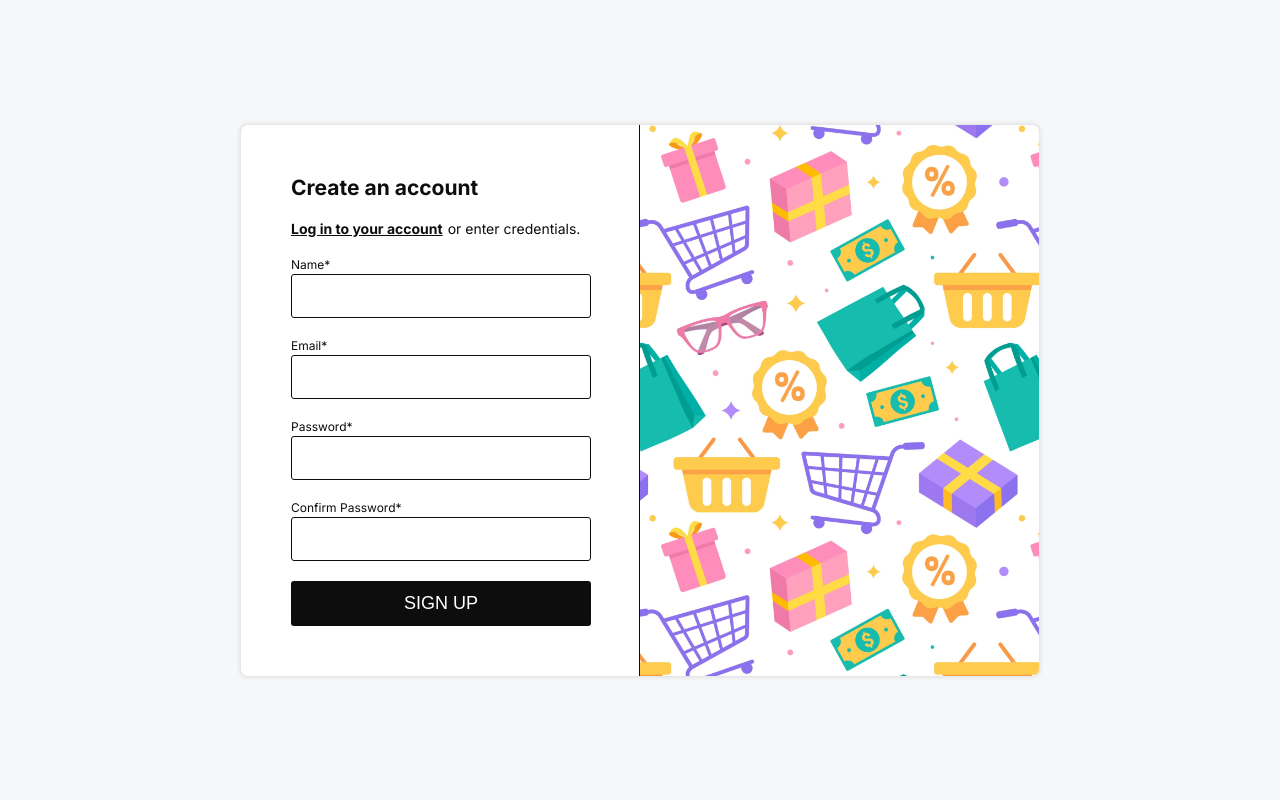
Create account › Checking for a mandatory password match
In the field with test id "input-name": (441, 296) [291,274,591,318], type "TestName"
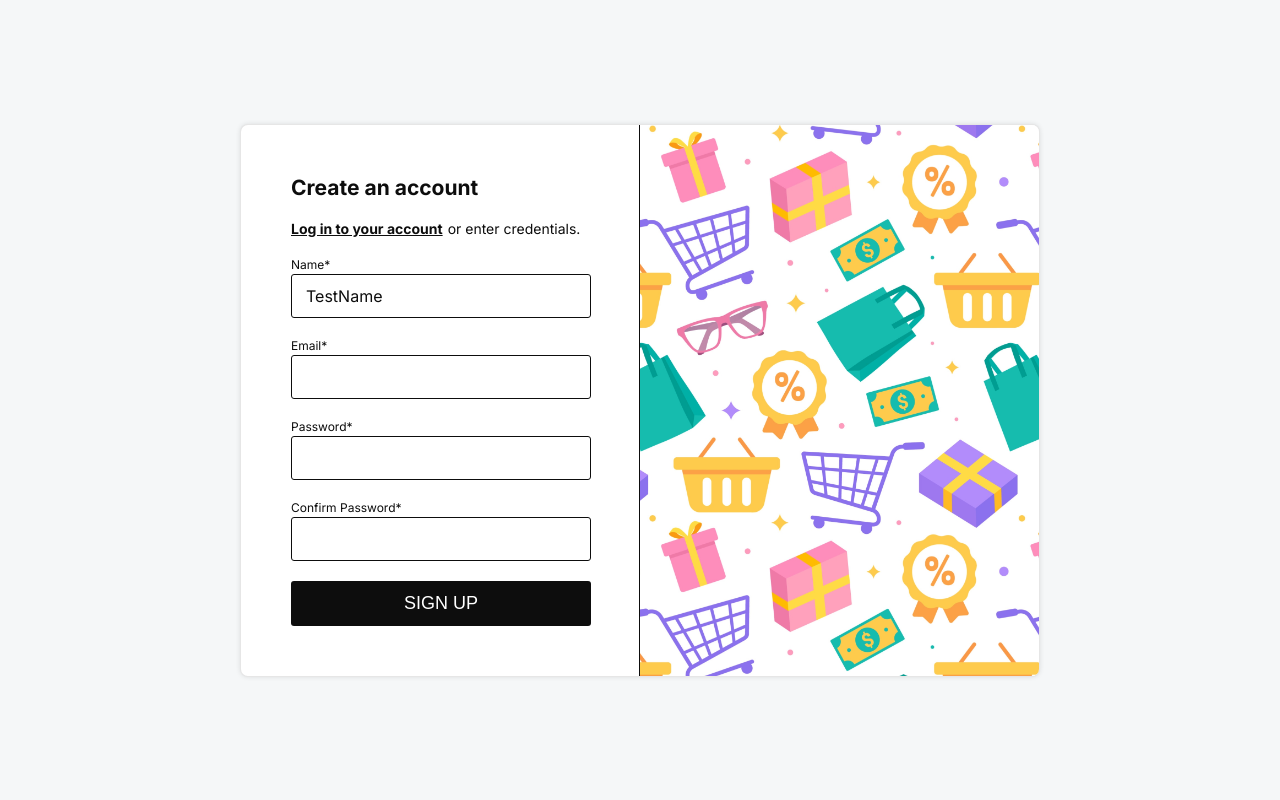
In the field with test id "input-email": (441, 377) [291,355,591,399], type "test@gmail.com"
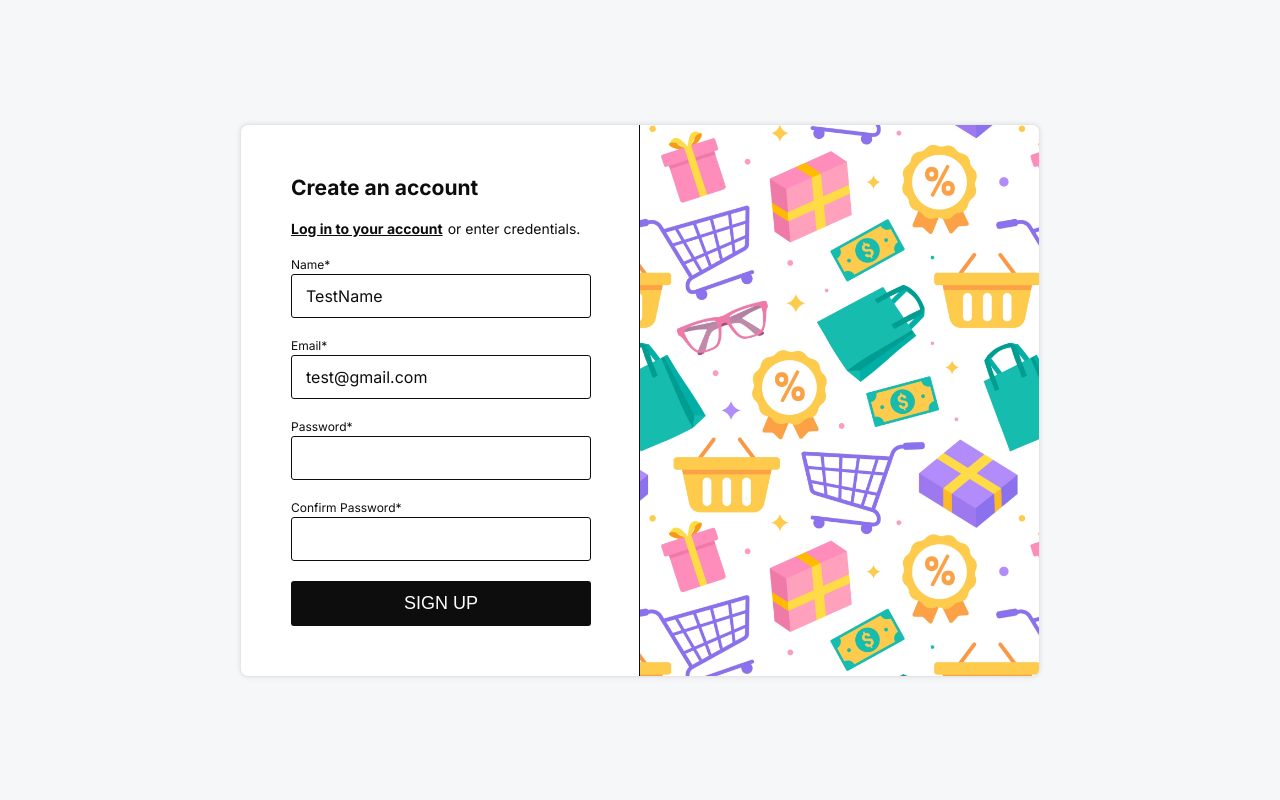
In the password field with test id "input-password": (441, 458) [291,436,591,480], type "qwerty123"
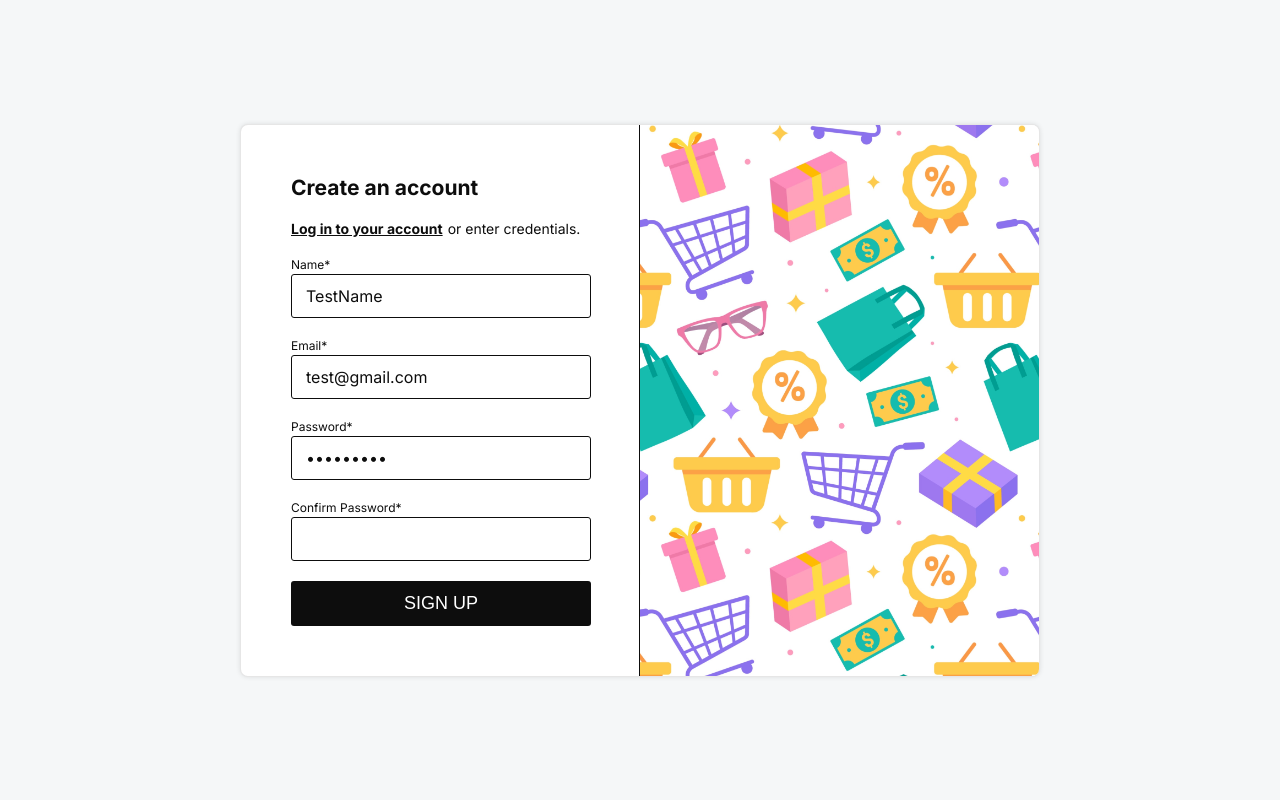
In the password field with test id "input-confirm-password": (441, 539) [291,517,591,561], type "qwerty124"
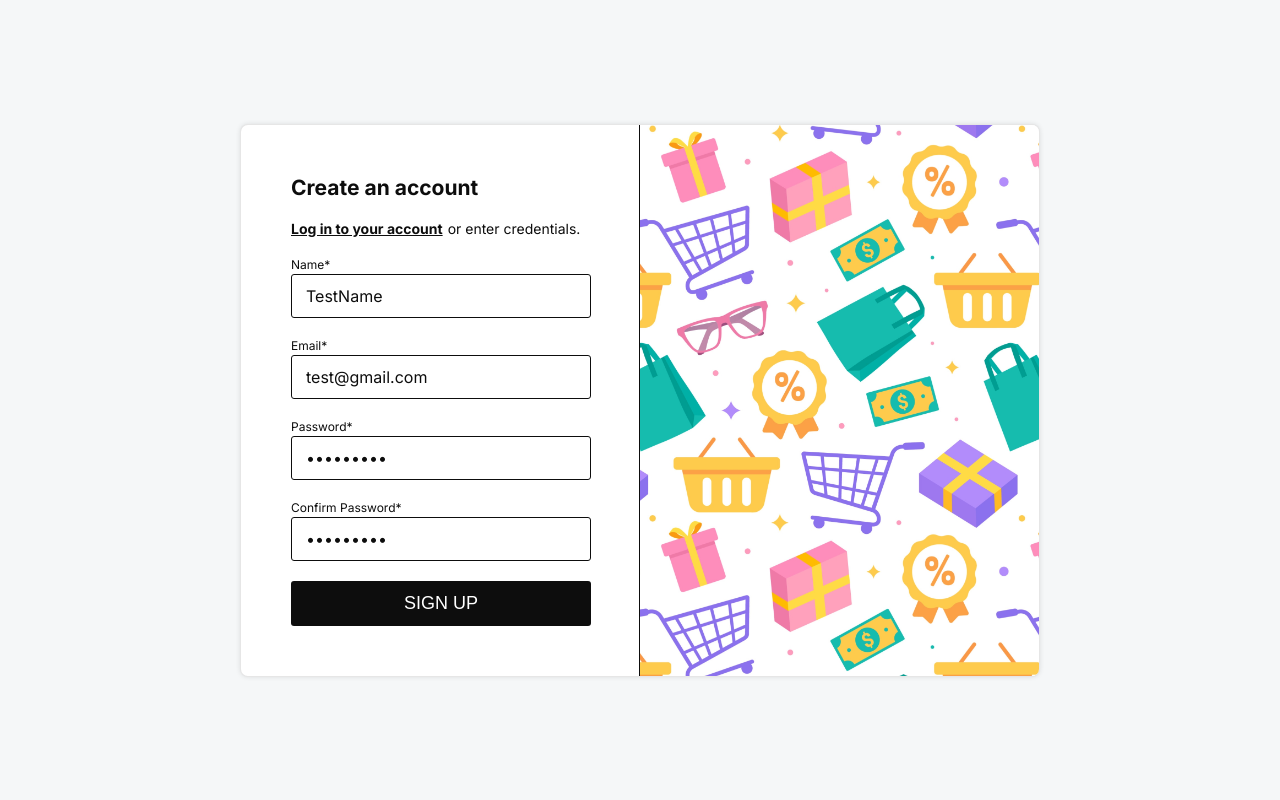
Click the button with test id "submit": (441, 604) [291,581,591,626]
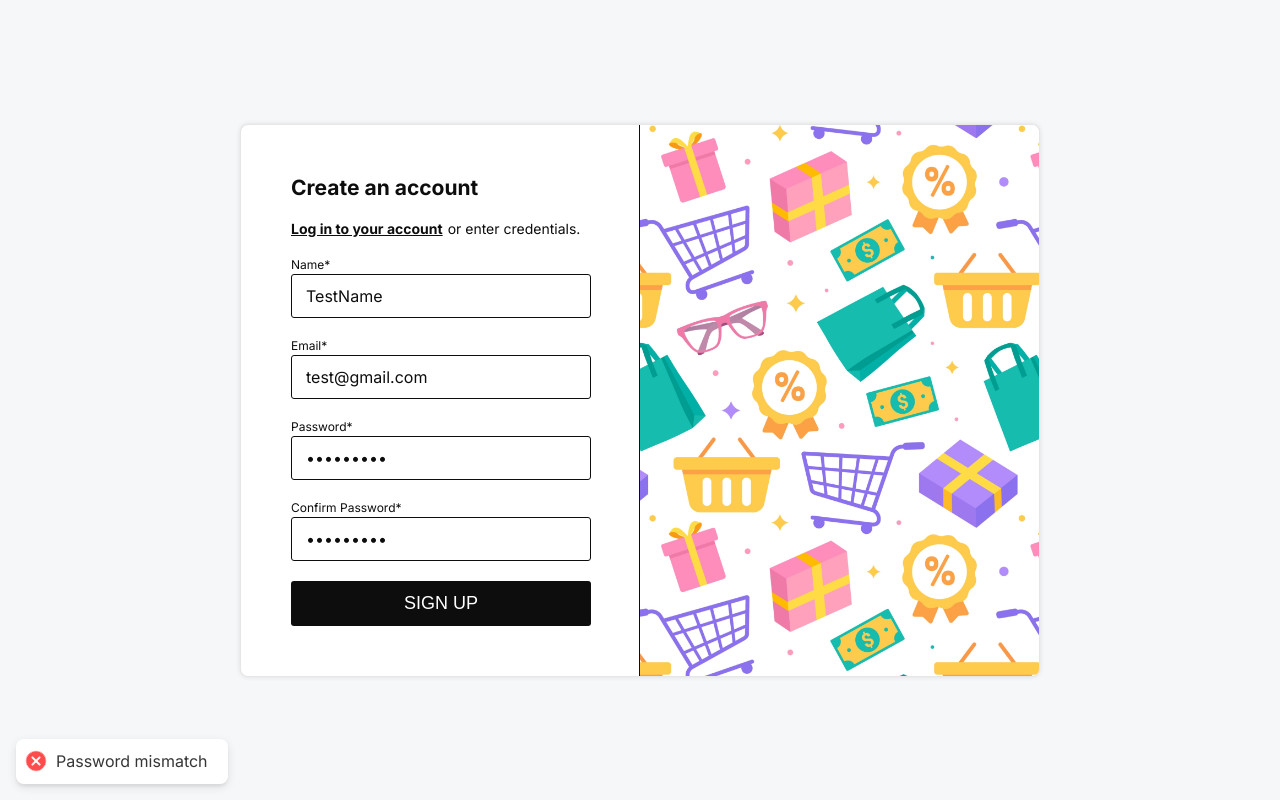
Expected: the text "Password mismatch" is shown, [56,751,208,772]
